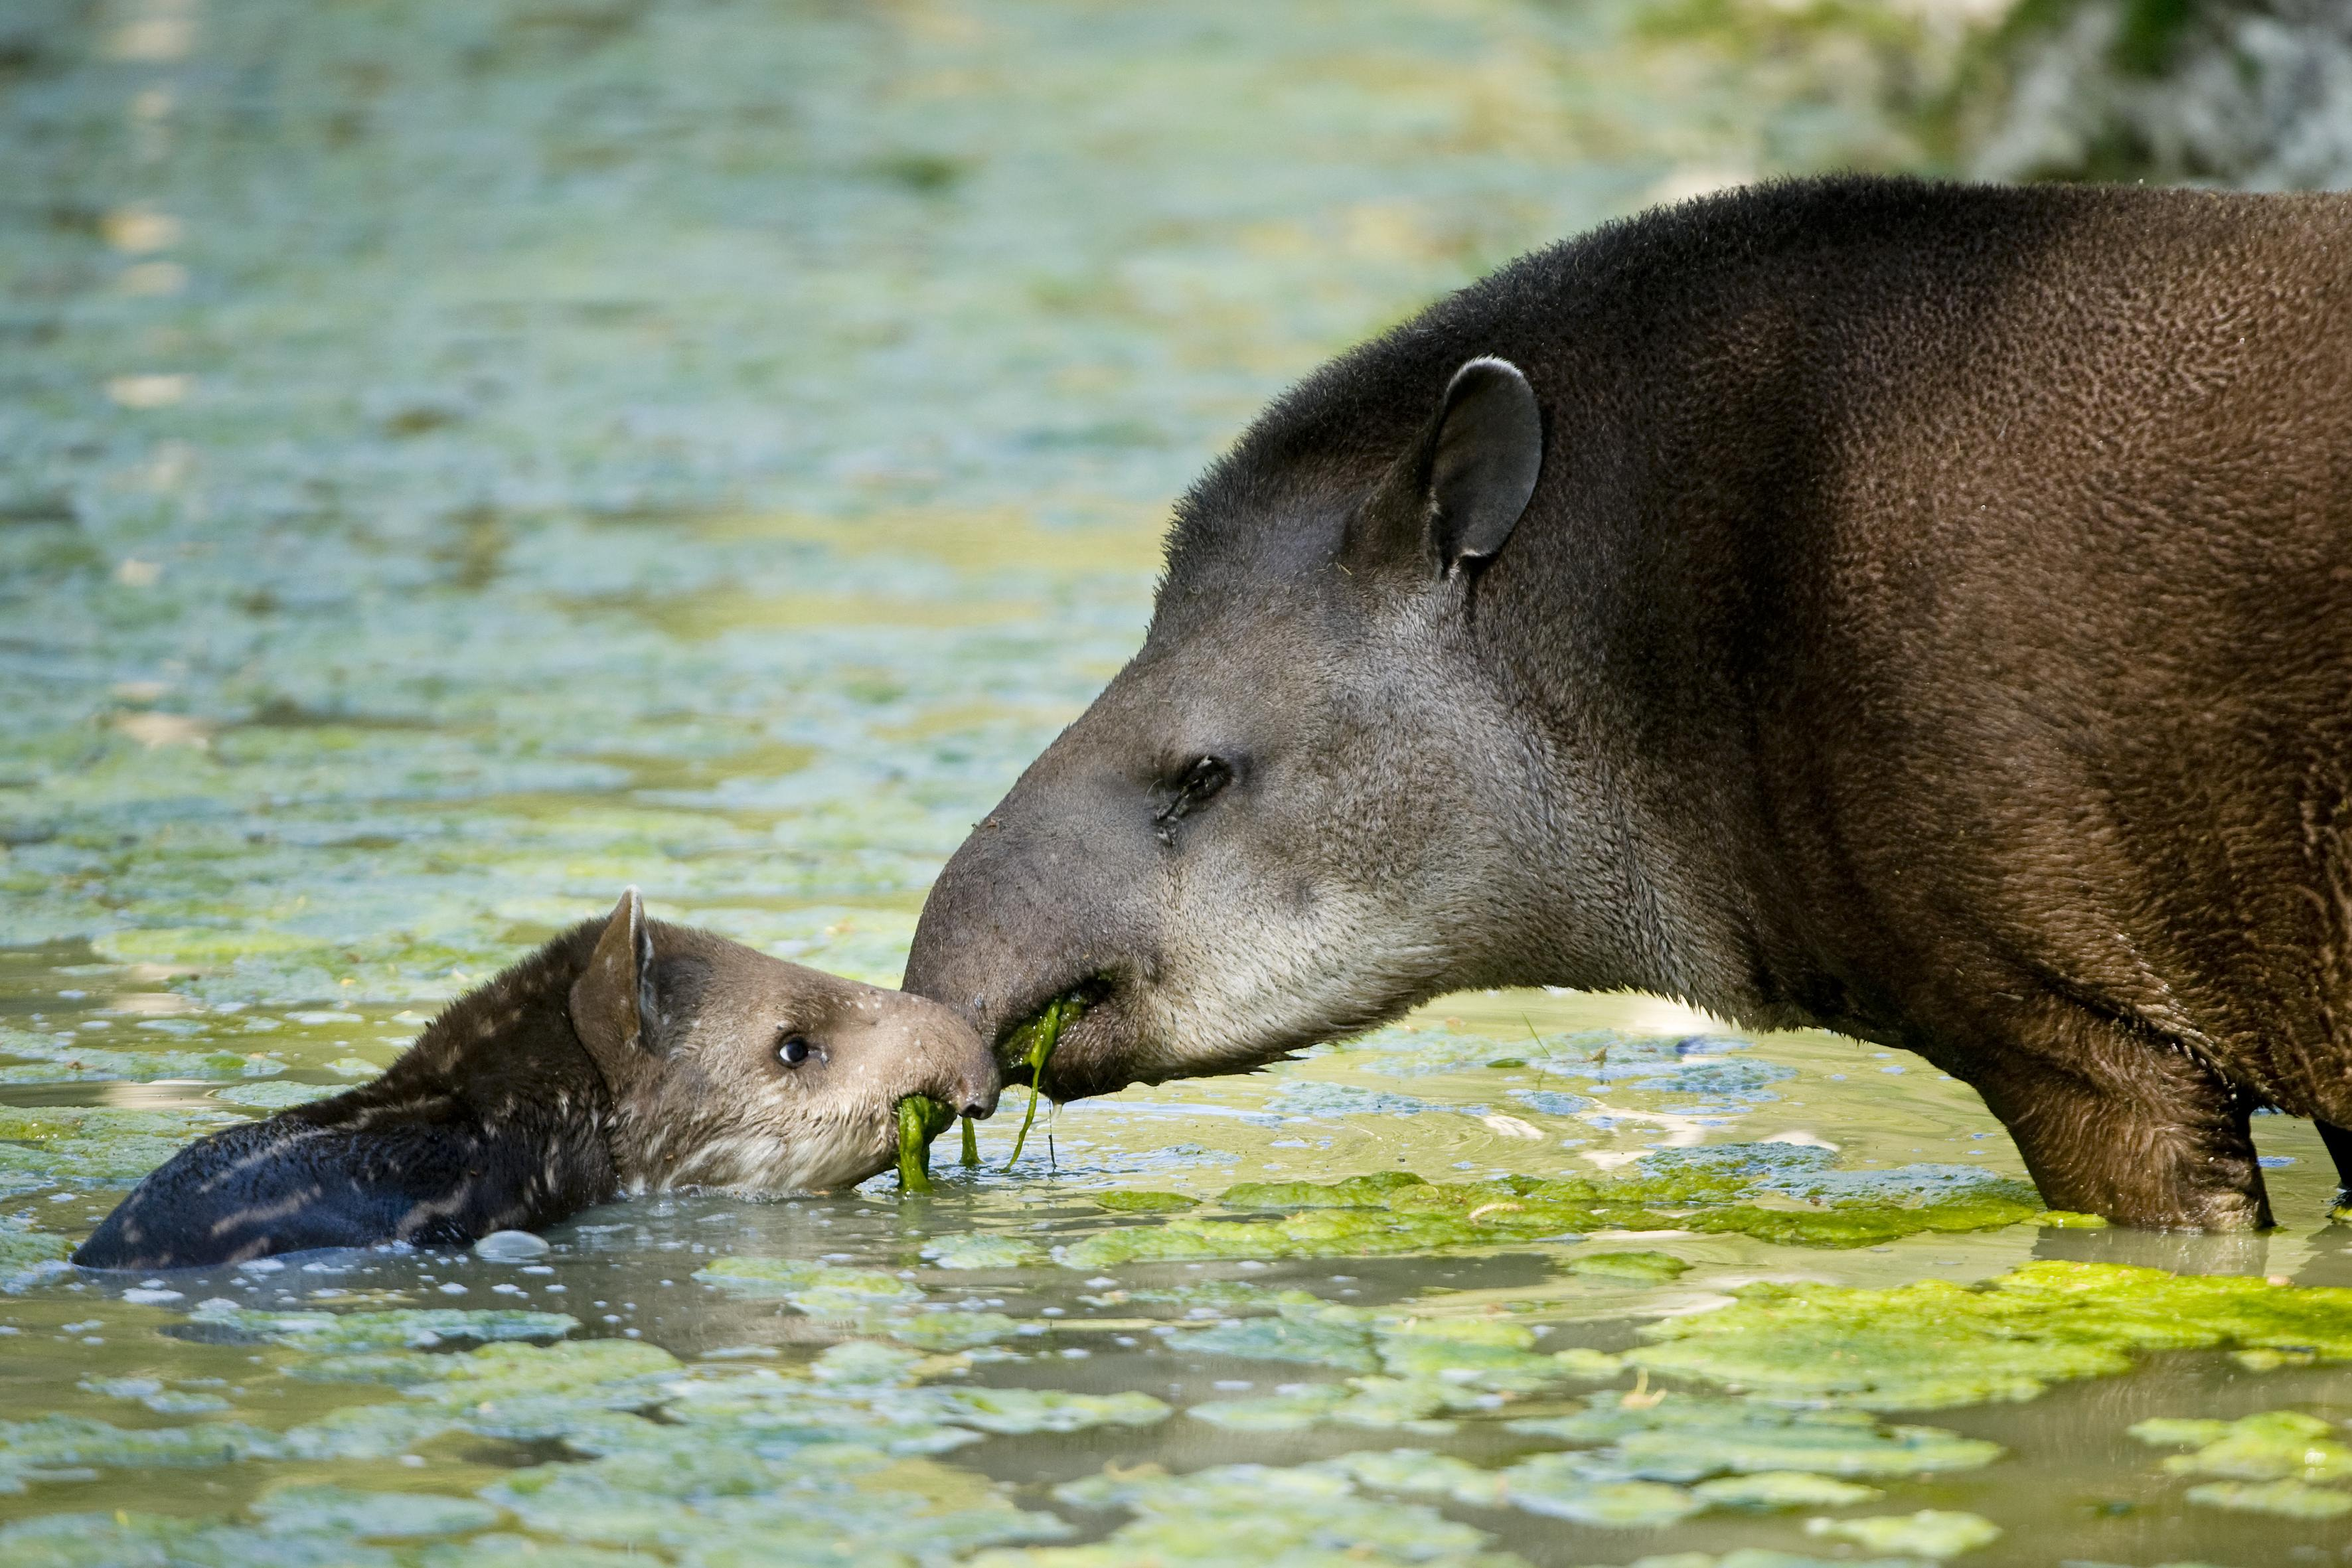Anta: (924, 126, 2315, 1272), (73, 817, 1003, 1321)
